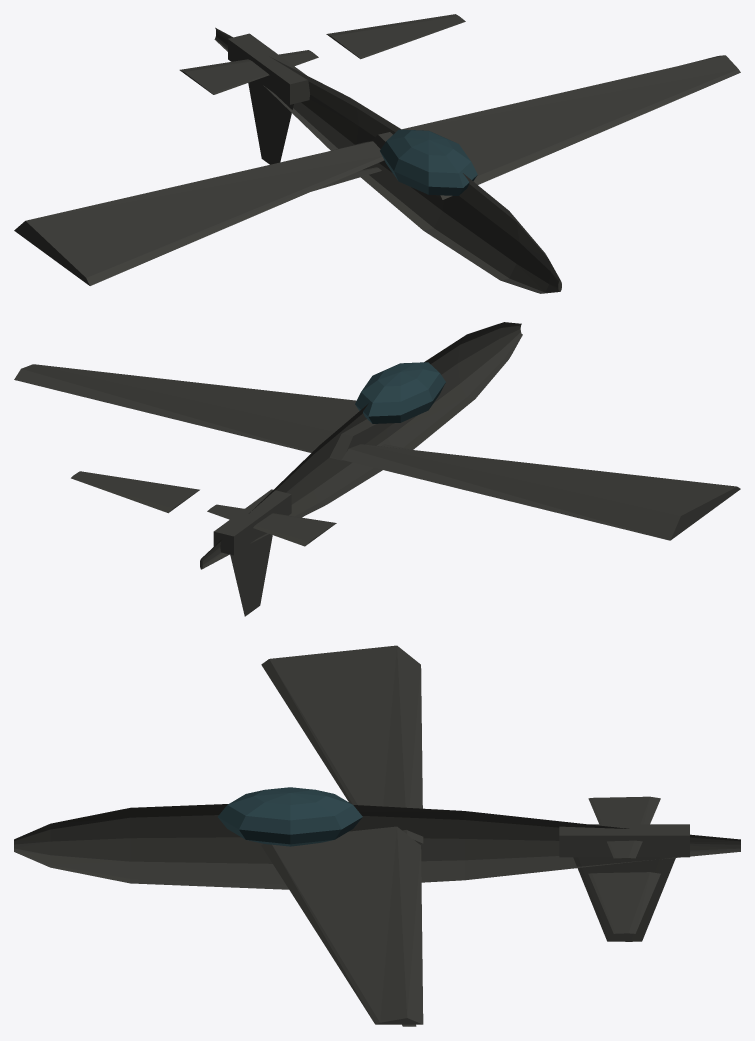
Rendered from b26_Destroyed.glb.
The picture shows the model from 3 angles, top to bottom: view 1: azimuth 30°, elevation 25°; view 2: azimuth 150°, elevation 25°; view 3: azimuth 270°, elevation 25°; orthographic projection. The views are drawn at different scales.
Parts seen in each view (by area): view 1: Wing_L, Wing_R, Fuselage, Cockpit, Elevator_R, TailBoom, Rudder, Elevator_L; view 2: Wing_L, Wing_R, Fuselage, Cockpit, TailBoom, Elevator_R, Rudder, Elevator_L; view 3: Fuselage, Wing_R, Wing_L, Cockpit, TailBoom, Rudder, Elevator_R, Elevator_L.
Boxes of the visible parts, bbox=[...] form: Wing_L: bbox=[14, 141, 384, 285]; Wing_R: bbox=[371, 55, 740, 199]; Fuselage: bbox=[214, 27, 561, 293]; Cockpit: bbox=[380, 129, 477, 195]; Elevator_R: bbox=[326, 14, 465, 59]; TailBoom: bbox=[228, 33, 310, 104]; Rudder: bbox=[248, 80, 293, 164]; Elevator_L: bbox=[179, 50, 318, 94]; Wing_L: bbox=[342, 444, 740, 540]; Wing_R: bbox=[14, 364, 393, 460]; Fuselage: bbox=[200, 322, 522, 569]; Cockpit: bbox=[355, 362, 445, 423]; TailBoom: bbox=[213, 489, 291, 555]; Elevator_R: bbox=[71, 471, 199, 513]; Rudder: bbox=[230, 532, 272, 616]; Elevator_L: bbox=[207, 504, 336, 546]; Fuselage: bbox=[14, 804, 740, 889]; Wing_R: bbox=[261, 826, 423, 1024]; Wing_L: bbox=[261, 645, 423, 843]; Cockpit: bbox=[218, 787, 362, 846]; TailBoom: bbox=[559, 824, 689, 857]; Rudder: bbox=[573, 857, 675, 941]; Elevator_R: bbox=[588, 872, 660, 933]; Elevator_L: bbox=[588, 796, 660, 858].
Bounding box in the file's own units: 20.74 × 3.97 × 17.6.
